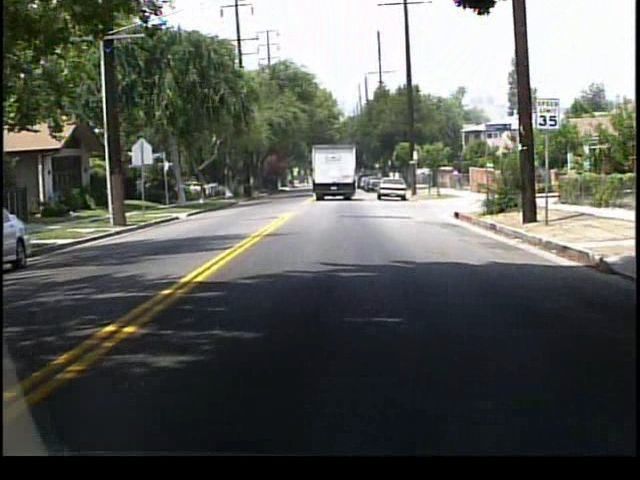person: (450, 166, 461, 190)
